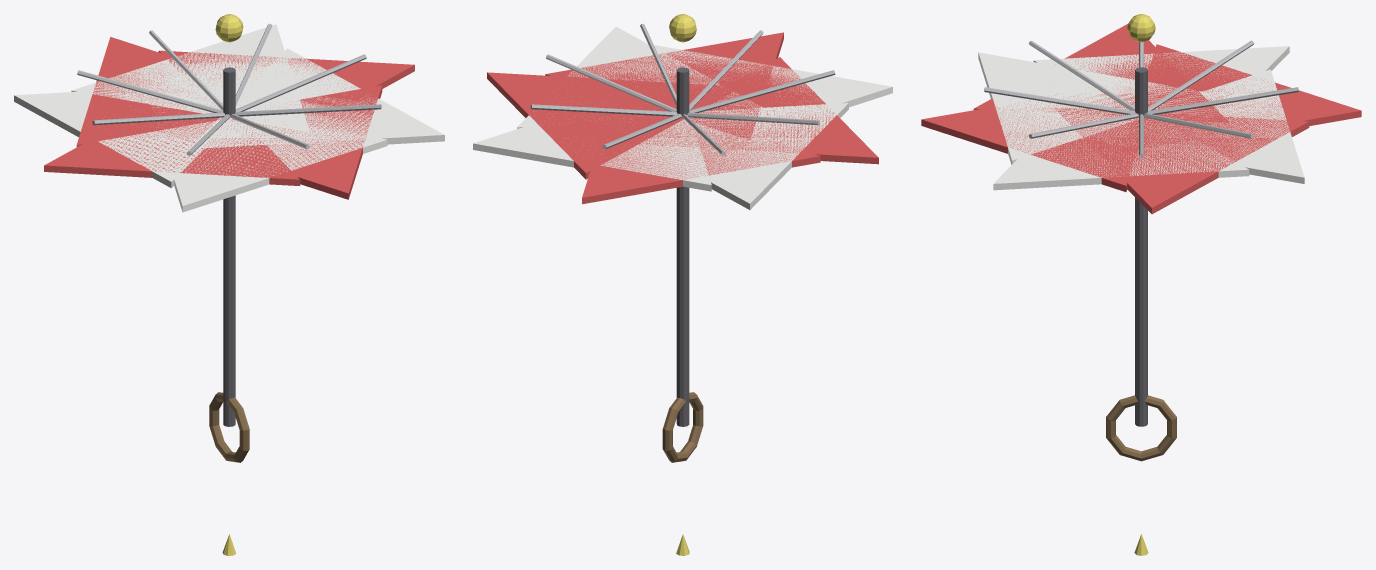
File: umbrella.fbx
3 renders of one model, left to right at view 1: azimuth 30°, elevation 25°; view 2: azimuth 150°, elevation 25°; view 3: azimuth 270°, elevation 25°, orthographic.
Visible parts, largest first — view 1: UM_Pan1, UM_Pan7, UM_Pan4, UM_Pan6, UM_Pan2, UM_Pan5, UM_Pan3, UM_Shaft, UM_Pan0, UM_Crook, UM_Rib3, UM_Rib7 (+4 smaller); view 2: UM_Pan0, UM_Pan3, UM_Pan6, UM_Pan4, UM_Pan2, UM_Pan1, UM_Pan7, UM_Shaft, UM_Pan5, UM_Crook, UM_Rib5, UM_Rib1 (+4 smaller); view 3: UM_Pan0, UM_Pan5, UM_Pan1, UM_Pan2, UM_Pan6, UM_Pan7, UM_Pan4, UM_Pan3, UM_Shaft, UM_Crook, UM_Rib2, UM_Rib6 (+5 smaller).
Part boxes in pixels (x1=…): UM_Pan1: x1=71, y1=24, x2=309, y2=132; UM_Pan7: x1=189, y1=48, x2=444, y2=148; UM_Pan4: x1=44, y1=114, x2=300, y2=185; UM_Pan6: x1=146, y1=85, x2=382, y2=199; UM_Pan2: x1=76, y1=37, x2=307, y2=146; UM_Pan5: x1=150, y1=99, x2=387, y2=212; UM_Pan3: x1=14, y1=91, x2=227, y2=188; UM_Shaft: x1=223, y1=67, x2=235, y2=426; UM_Pan0: x1=158, y1=50, x2=414, y2=150; UM_Crook: x1=209, y1=392, x2=249, y2=462; UM_Rib3: x1=77, y1=70, x2=223, y2=112; UM_Rib7: x1=235, y1=104, x2=381, y2=116; UM_Pan0: x1=487, y1=72, x2=742, y2=179; UM_Pan3: x1=623, y1=103, x2=848, y2=209; UM_Pan6: x1=545, y1=32, x2=783, y2=139; UM_Pan4: x1=623, y1=57, x2=878, y2=164; UM_Pan2: x1=582, y1=120, x2=820, y2=204; UM_Pan1: x1=473, y1=119, x2=711, y2=191; UM_Pan7: x1=517, y1=26, x2=771, y2=128; UM_Shaft: x1=676, y1=67, x2=689, y2=426; UM_Pan5: x1=654, y1=45, x2=892, y2=107; UM_Crook: x1=662, y1=392, x2=703, y2=462; UM_Rib5: x1=689, y1=70, x2=835, y2=112; UM_Rib1: x1=530, y1=104, x2=677, y2=116; UM_Pan0: x1=1054, y1=107, x2=1309, y2=214; UM_Pan5: x1=978, y1=52, x2=1216, y2=164; UM_Pan1: x1=1068, y1=69, x2=1304, y2=183; UM_Pan2: x1=1123, y1=44, x2=1361, y2=151; UM_Pan6: x1=921, y1=100, x2=1145, y2=191; UM_Pan7: x1=993, y1=126, x2=1249, y2=190; UM_Pan4: x1=973, y1=24, x2=1229, y2=122; UM_Pan3: x1=1033, y1=46, x2=1289, y2=81; UM_Shaft: x1=1135, y1=67, x2=1147, y2=426; UM_Crook: x1=1106, y1=395, x2=1176, y2=461; UM_Rib2: x1=1147, y1=87, x2=1298, y2=114; UM_Rib6: x1=984, y1=87, x2=1135, y2=114.
Bounding box in the file's own units: 1.24 × 1.67 × 1.24.
